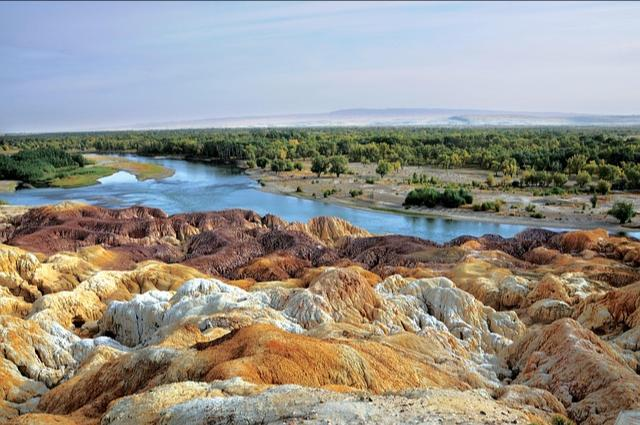Non_Gorille: (39, 39, 593, 406)
